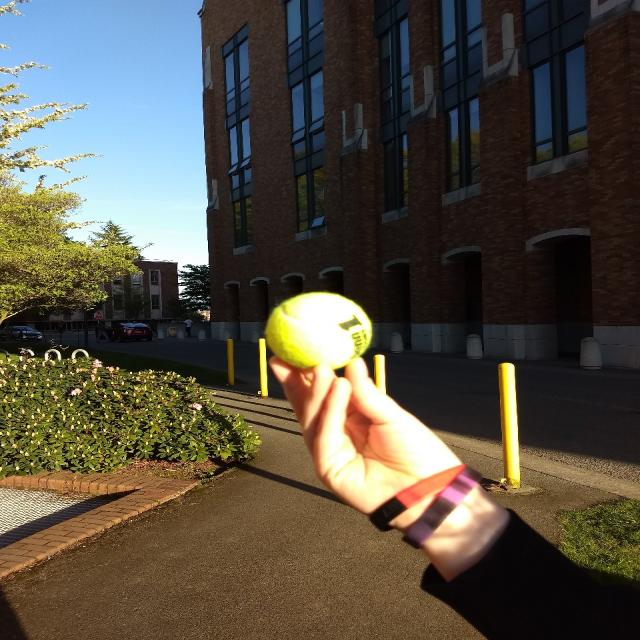Tennis-Ball: (266, 292, 372, 369)
